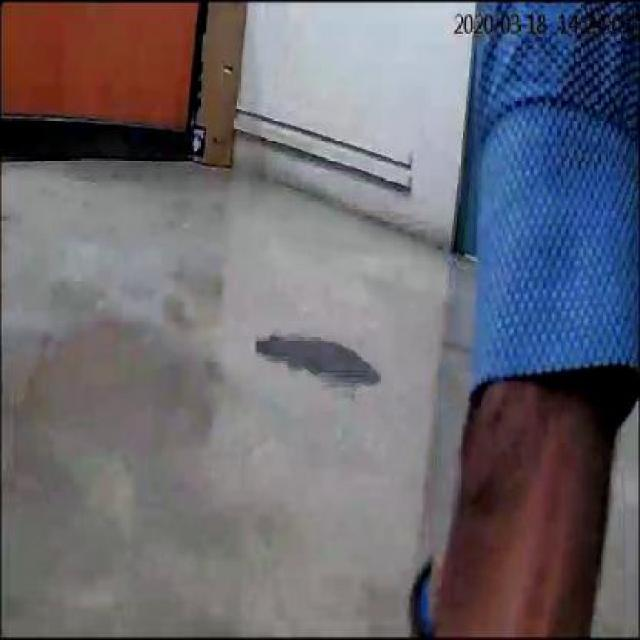spill: (254, 333, 378, 387)
